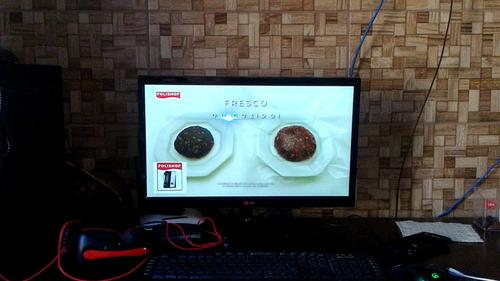Polishop #1: (152, 160, 187, 193)
